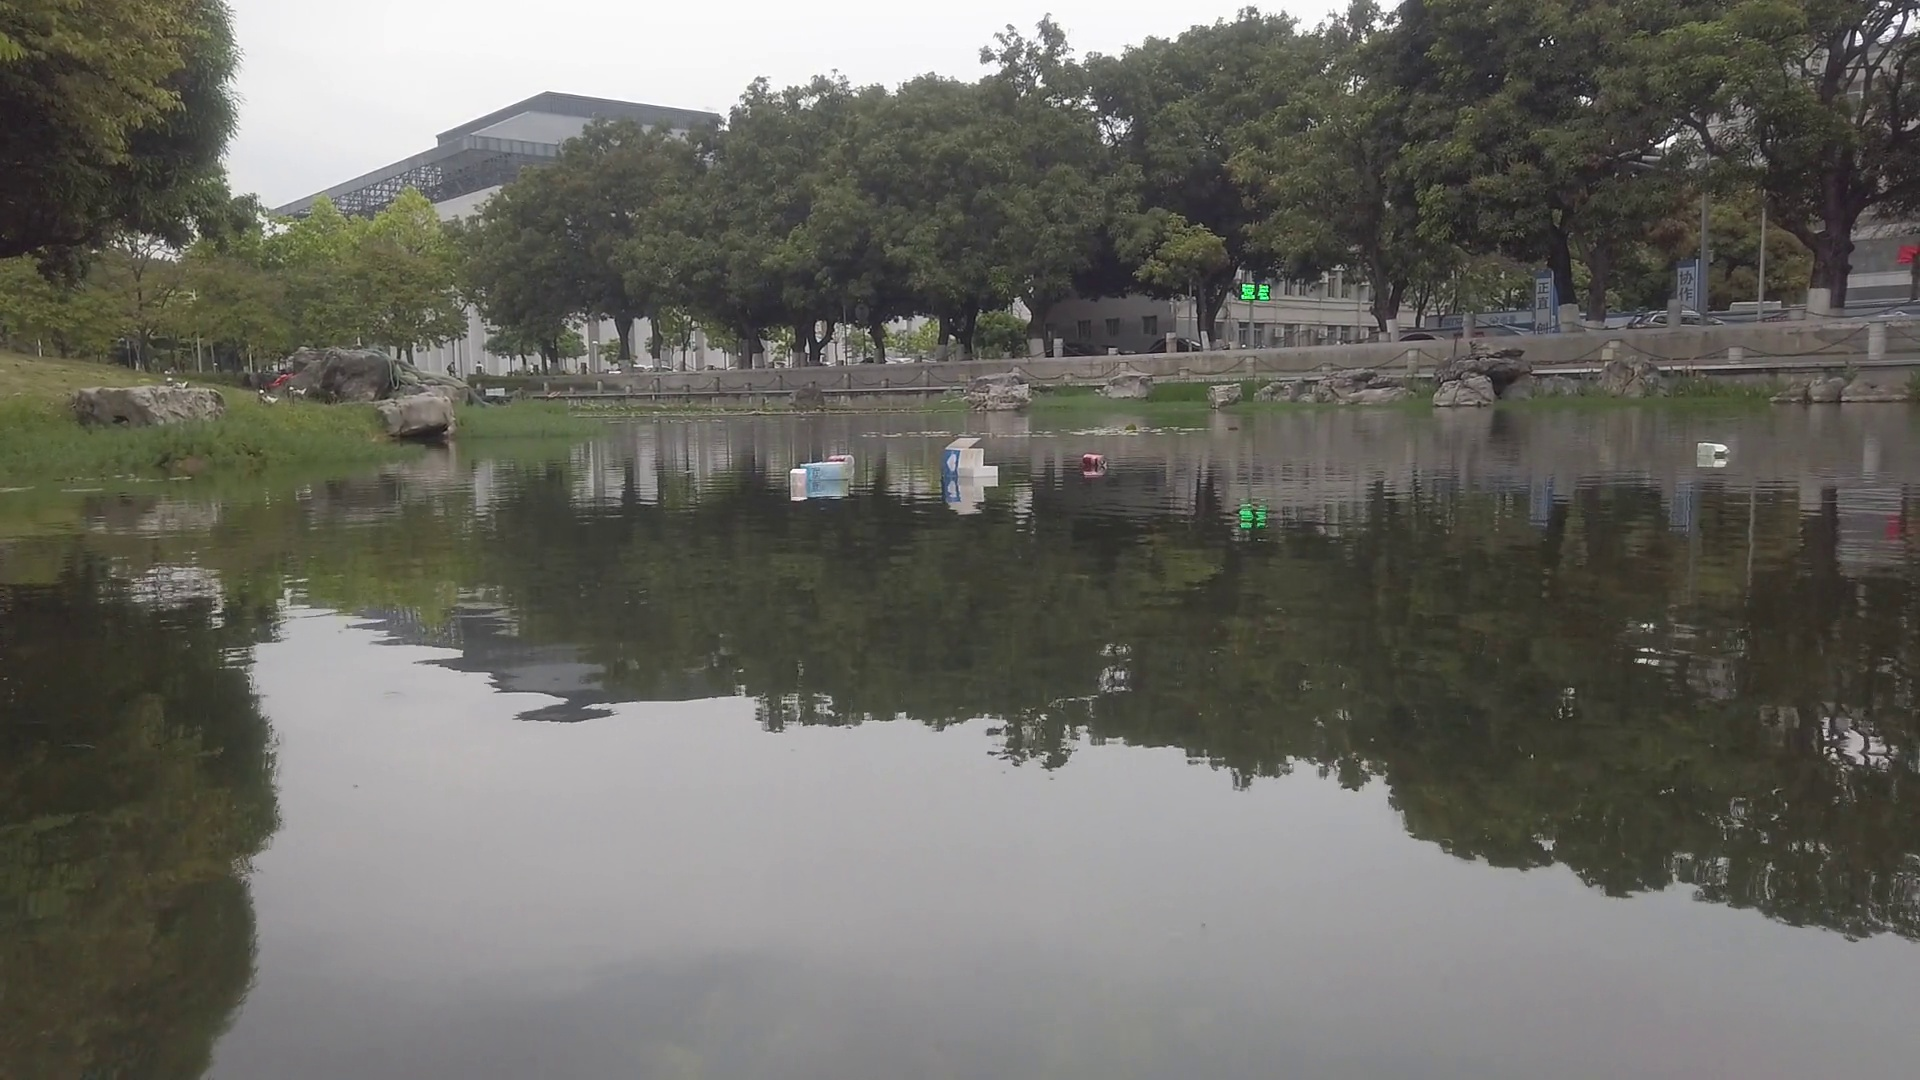bottle: (1083, 451, 1106, 471), (828, 454, 858, 467)
carton: (945, 435, 996, 484), (802, 462, 851, 480), (1697, 440, 1730, 463), (790, 465, 808, 489)
